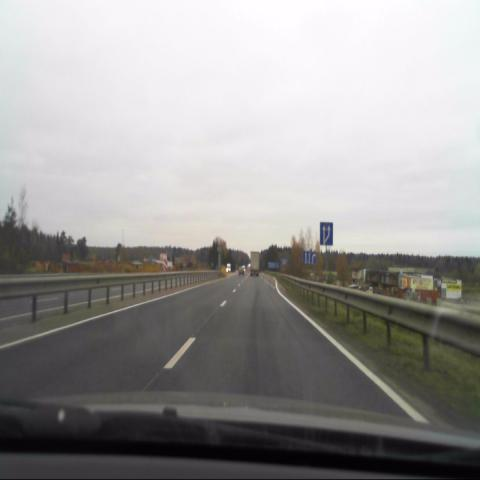5_15_3: (320, 223, 333, 246)
